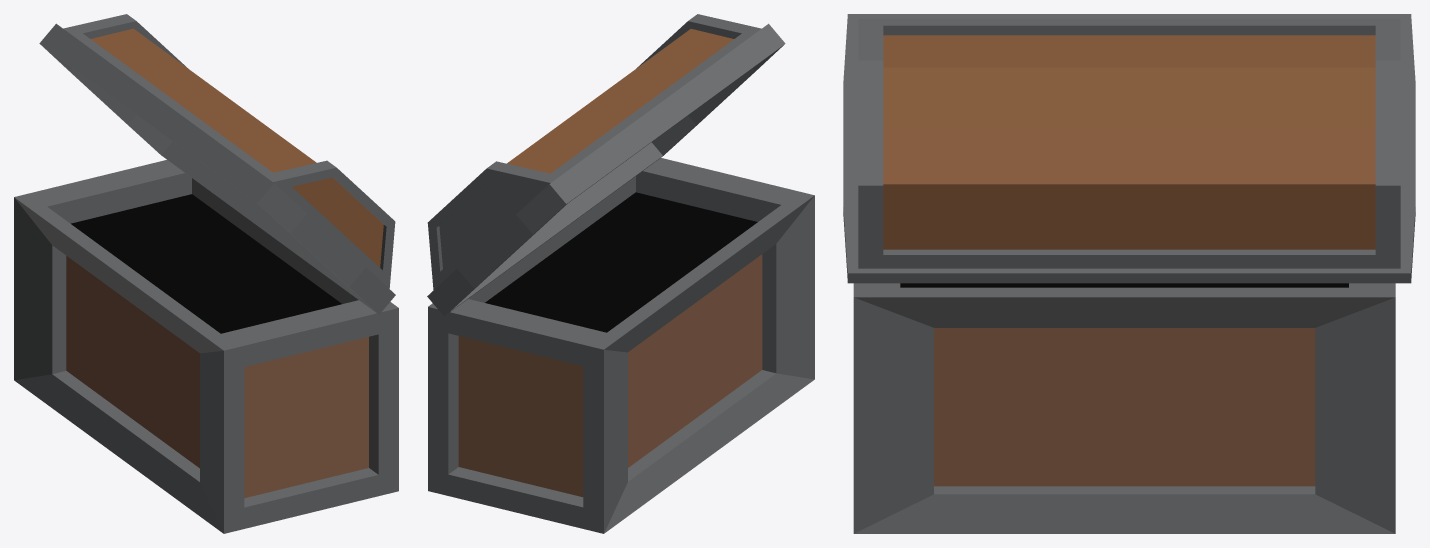
File: chest open.fbx
3 views of the same model, side by side, from view 1: azimuth 30°, elevation 25°; view 2: azimuth 150°, elevation 25°; view 3: azimuth 270°, elevation 25° (orthographic). The views are drawn at different scales.
Visible parts, largest first — view 1: Cube, Cube.001; view 2: Cube, Cube.001; view 3: Cube.001, Cube.
Part boxes in pixels (box(x1,y1,x2,y2)): Cube: box(14, 160, 398, 533); Cube.001: box(39, 14, 395, 314); Cube: box(428, 158, 814, 533); Cube.001: box(427, 14, 785, 316); Cube.001: box(843, 14, 1415, 283); Cube: box(853, 283, 1395, 533).
Bounding box in the file's own units: 200 × 372 × 438.
